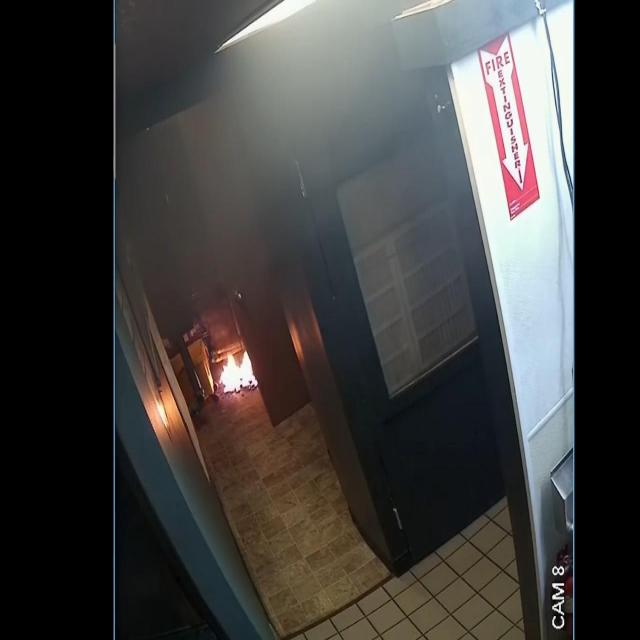fire: (219, 350, 257, 394)
